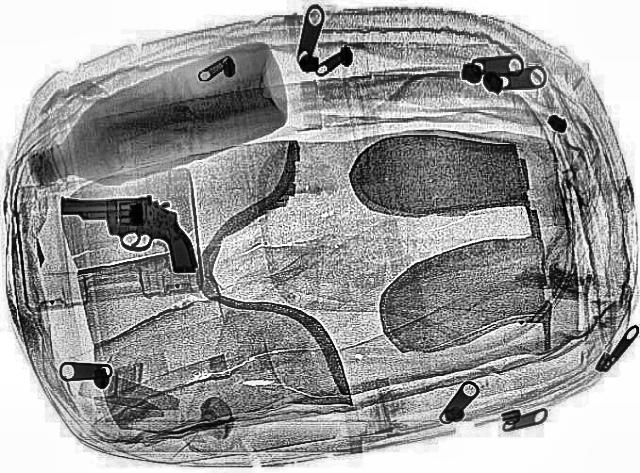Gun: (54, 168, 234, 282)
